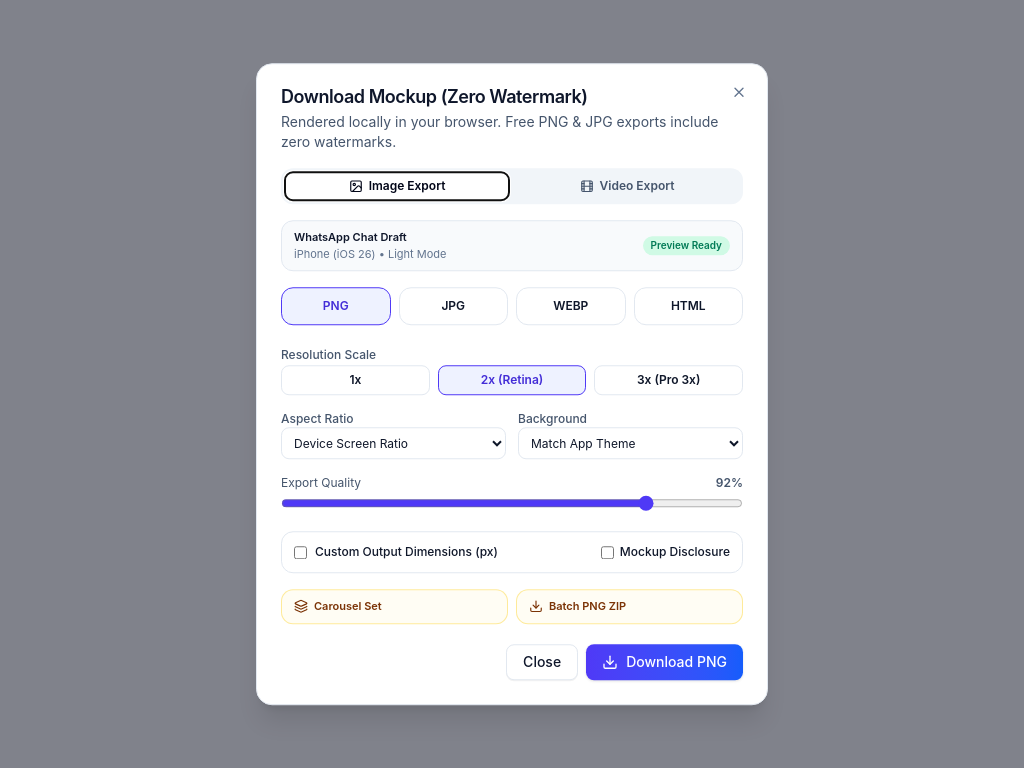
Free & Premium Access System Permissions › unlocks Pro capabilities for Premium accounts and supports configurable pricing plans
Click the button with test id "download-tab-video" at (627,186), box [515,172,739,200]
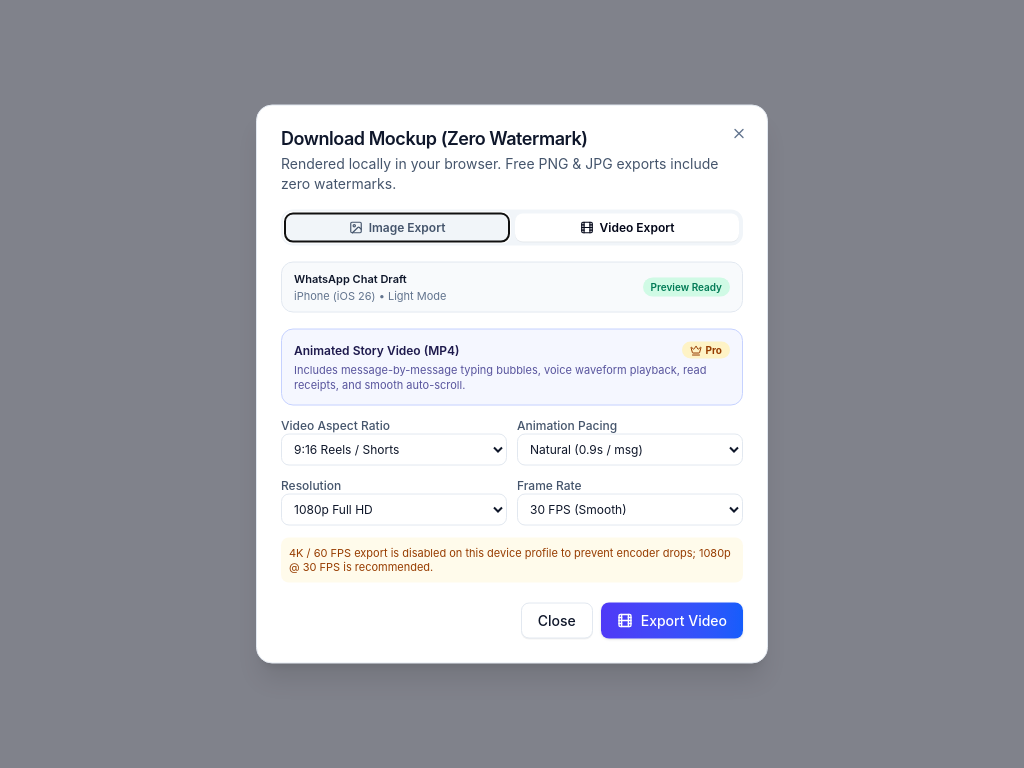
Expected: the button with test id "confirm-export-btn" reads "Export Video", [601,602,743,638]
